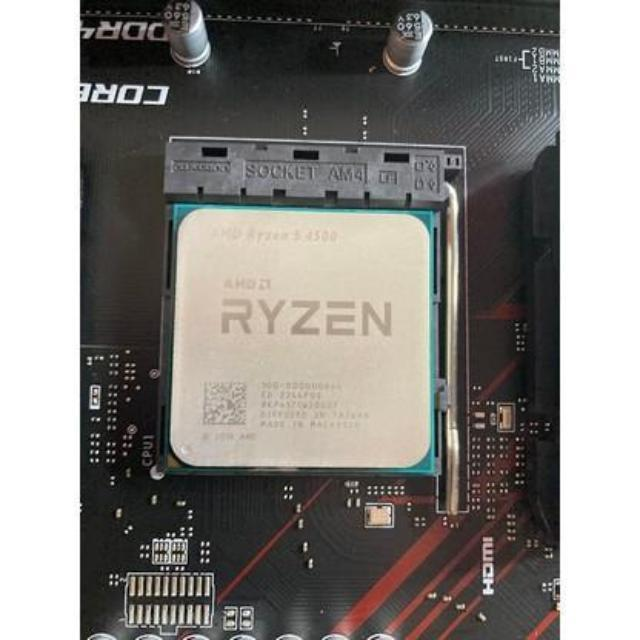CPU: (172, 204, 430, 472)
